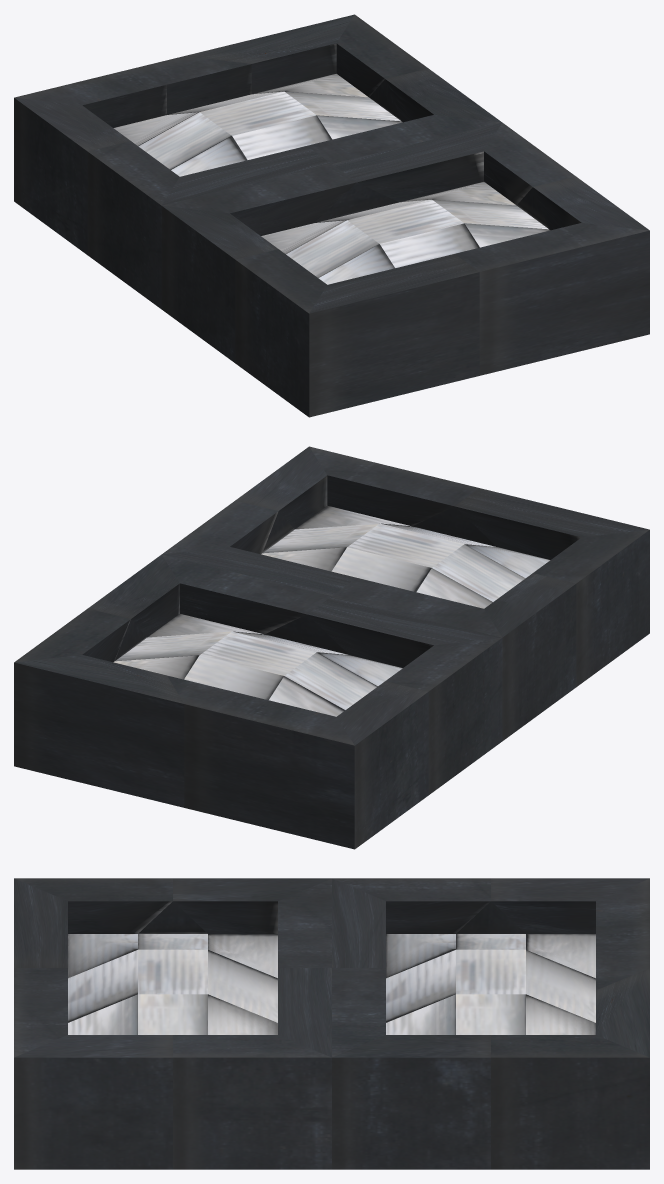
File: Bridge_light_small.FBX
The picture shows the model from 3 angles, top to bottom: view 1: azimuth 30°, elevation 25°; view 2: azimuth 150°, elevation 25°; view 3: azimuth 270°, elevation 25°; orthographic projection. The views are drawn at different scales.
Parts seen in each view (by area): view 1: walllight_small_l; view 2: walllight_small_l; view 3: walllight_small_l.
Boxes of the visible parts, x1,y1,x2,y2 form: walllight_small_l: [14, 14, 649, 417]; walllight_small_l: [14, 446, 649, 849]; walllight_small_l: [14, 878, 649, 1169].
Bounding box in the file's own units: 7.87 × 2.29 × 11.81.
